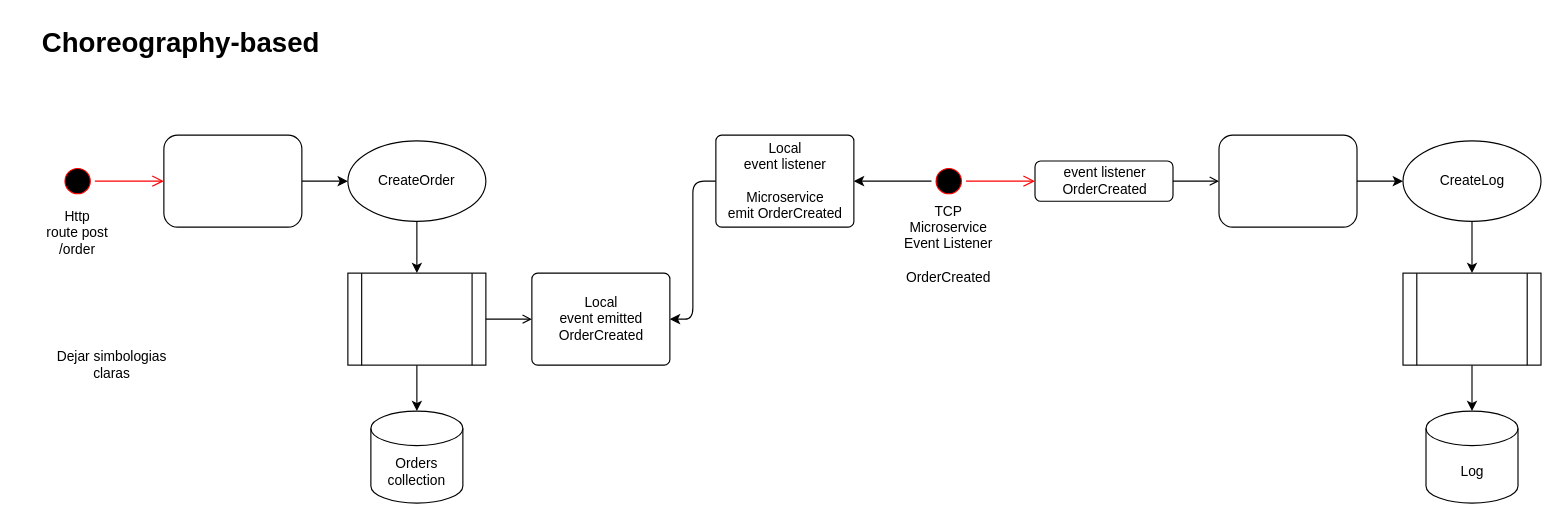
The diagram is 1561 pixels wide and 523 high, and some of its shapes have lost their labels. Here are the shapes that lost their labels. From the top down, the centre of each, then its label:
At point 232,180: "Module Orders".
At point 1287,180: "Module Logger".
At point 416,318: "Adapter Moongose".
At point 1471,318: "Adapter Elastic Stack".
